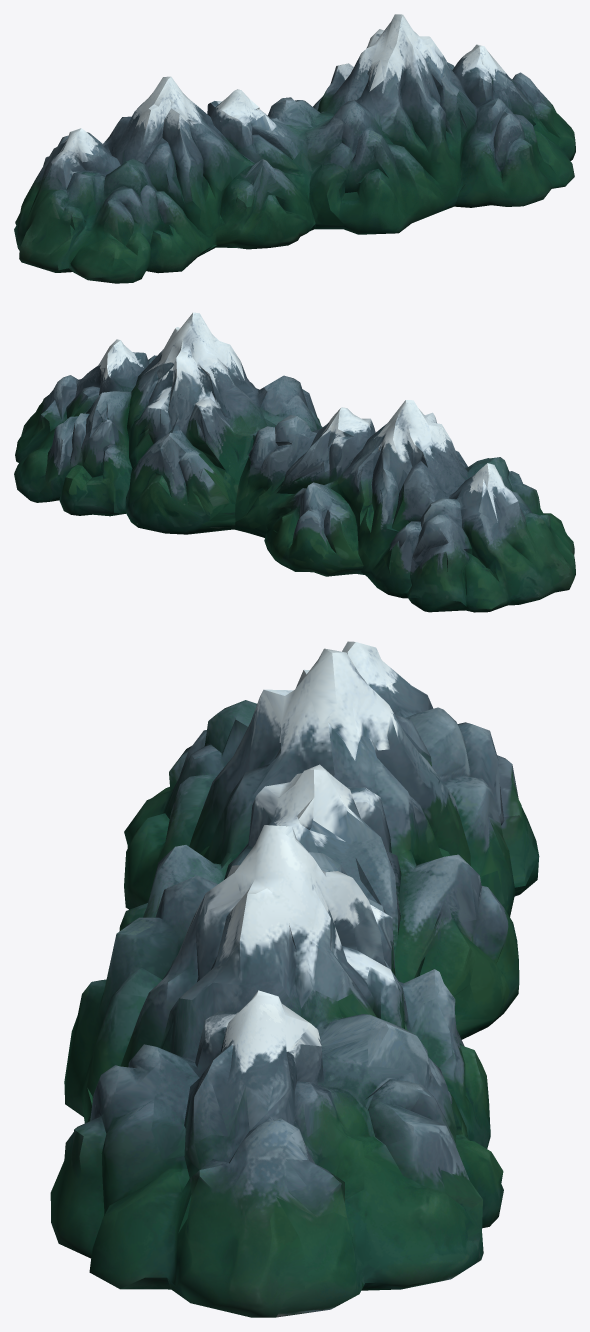
3 views of the same model, one above another, from view 1: azimuth 30°, elevation 25°; view 2: azimuth 150°, elevation 25°; view 3: azimuth 270°, elevation 25° (orthographic). The views are drawn at different scales.
Parts seen in each view (by area): view 1: backdrop_mountains; view 2: backdrop_mountains; view 3: backdrop_mountains.
Part boxes in pixels (<box>): backdrop_mountains: <box>14,14,575,283</box>; backdrop_mountains: <box>14,312,575,612</box>; backdrop_mountains: <box>50,641,539,1317</box>.
Bounding box in the file's own units: 0.979 × 0.2907 × 0.3854.
1 material, 1 textured.
